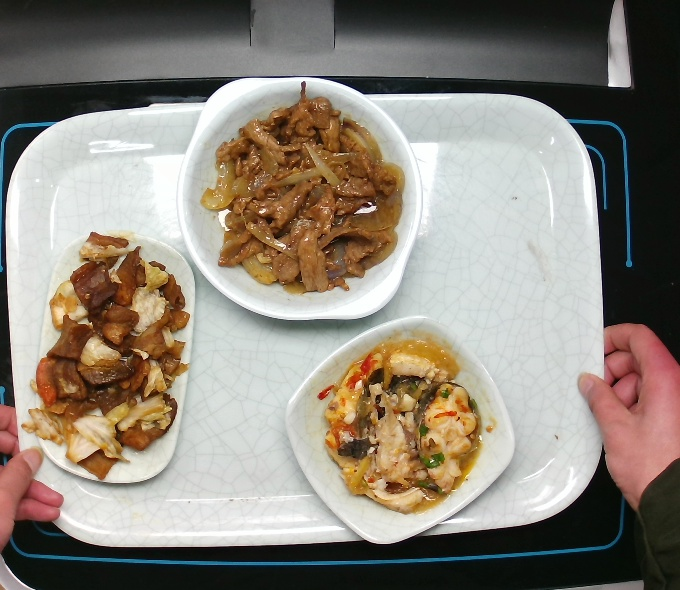wcq-DuoJiaoYuKuai: (309, 337, 494, 513)
wcq-PaoCaiRouPian: (36, 239, 194, 472)
wcq-YangCongRouPian: (215, 105, 402, 298)
